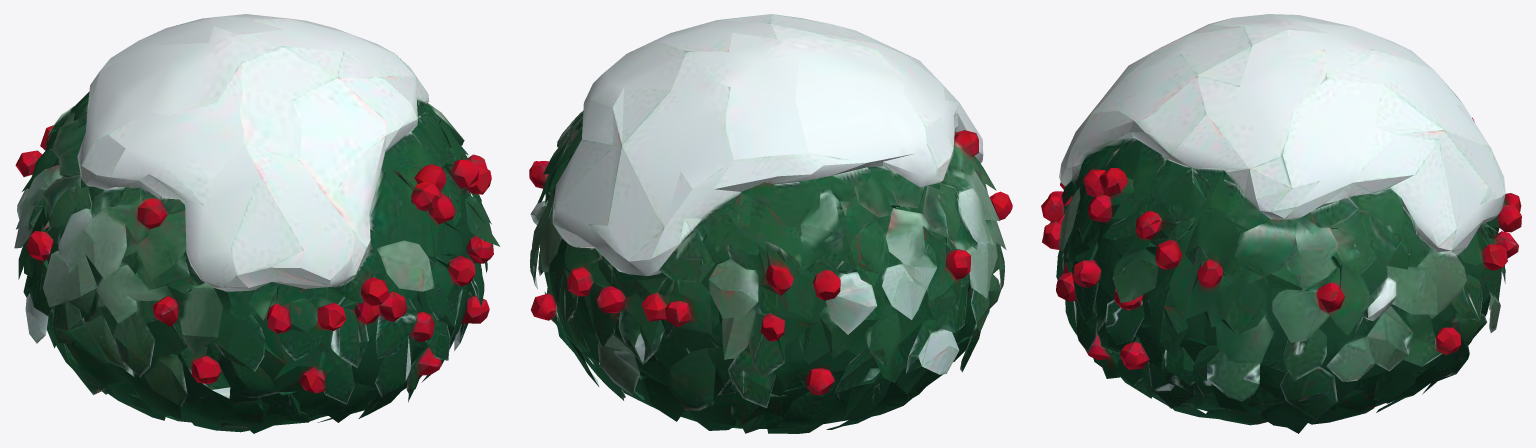
File: snowy_bush.glb
The picture shows the model from 3 angles, left to right: view 1: azimuth 30°, elevation 25°; view 2: azimuth 150°, elevation 25°; view 3: azimuth 270°, elevation 25°; orthographic projection. The views are drawn at different scales.
Bounding box in the file's own units: 1.9 × 1.46 × 1.9.
1 material, 1 textured.
